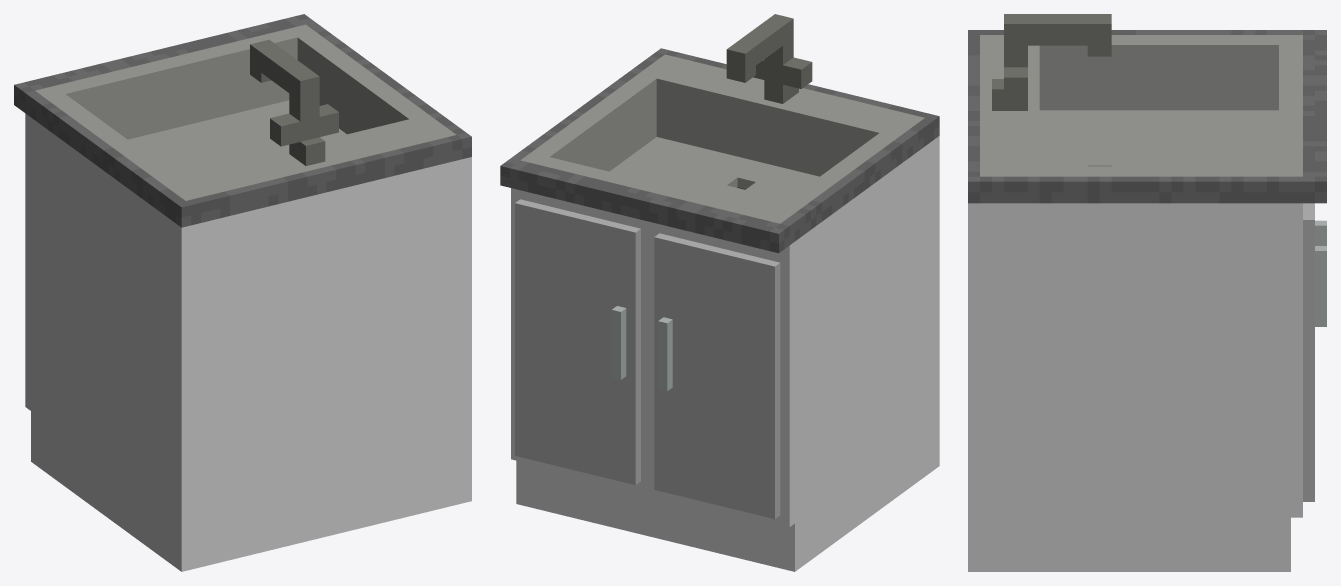
File: countertop_03.glb
The picture shows the model from 3 angles, left to right: view 1: azimuth 30°, elevation 25°; view 2: azimuth 150°, elevation 25°; view 3: azimuth 270°, elevation 25°; orthographic projection. The views are drawn at different scales.
Parts seen in each view (by area): view 1: Untitled; view 2: Untitled; view 3: Untitled.
Boxes of the visible parts, <box> form: Untitled: <box>14,14,471,571</box>; Untitled: <box>500,14,939,571</box>; Untitled: <box>968,14,1326,571</box>.
Bounding box in the file's own units: 0.9 × 1.32 × 0.9.
1 material, 1 textured.
